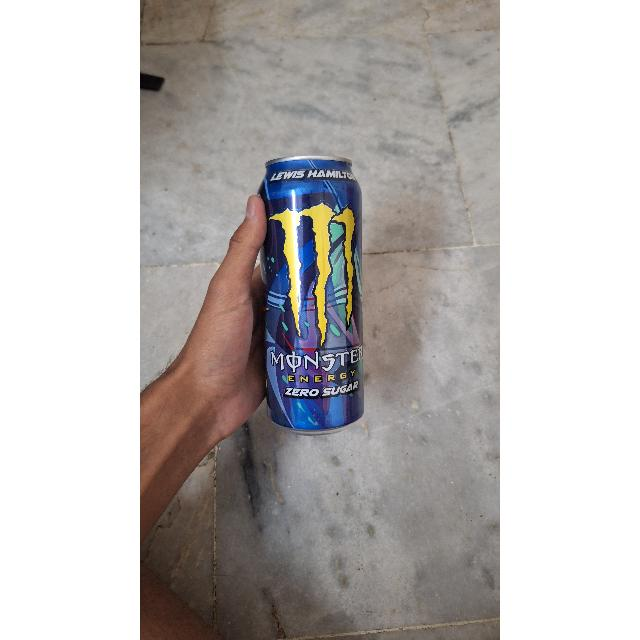Monster LH44: (265, 148, 367, 438)
